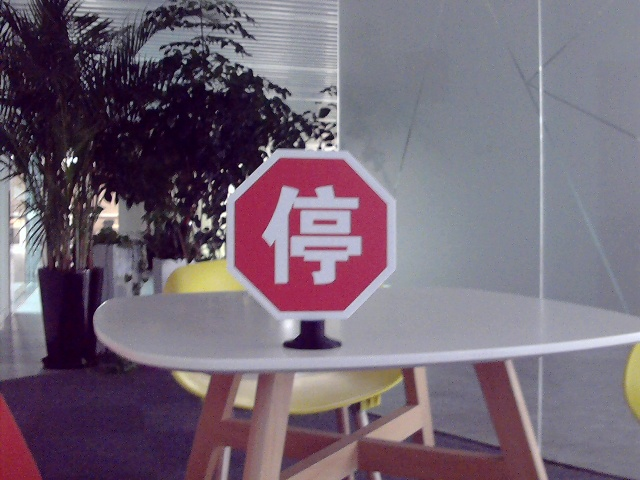stop: (259, 179, 362, 291)
